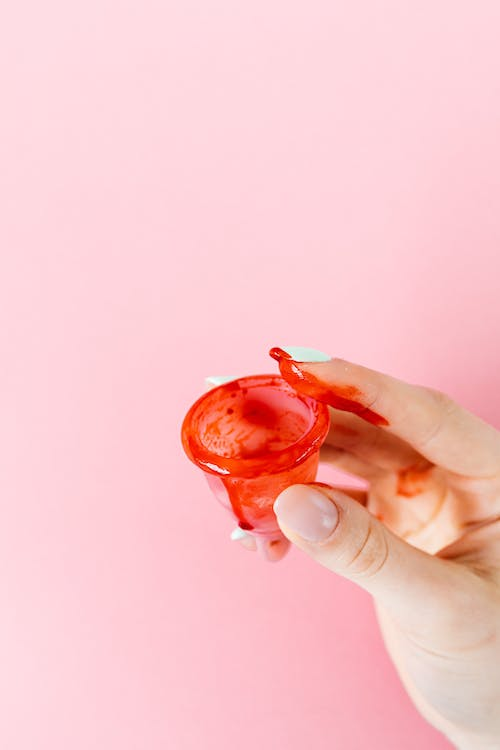blood: (266, 344, 439, 500), (179, 371, 334, 535)
